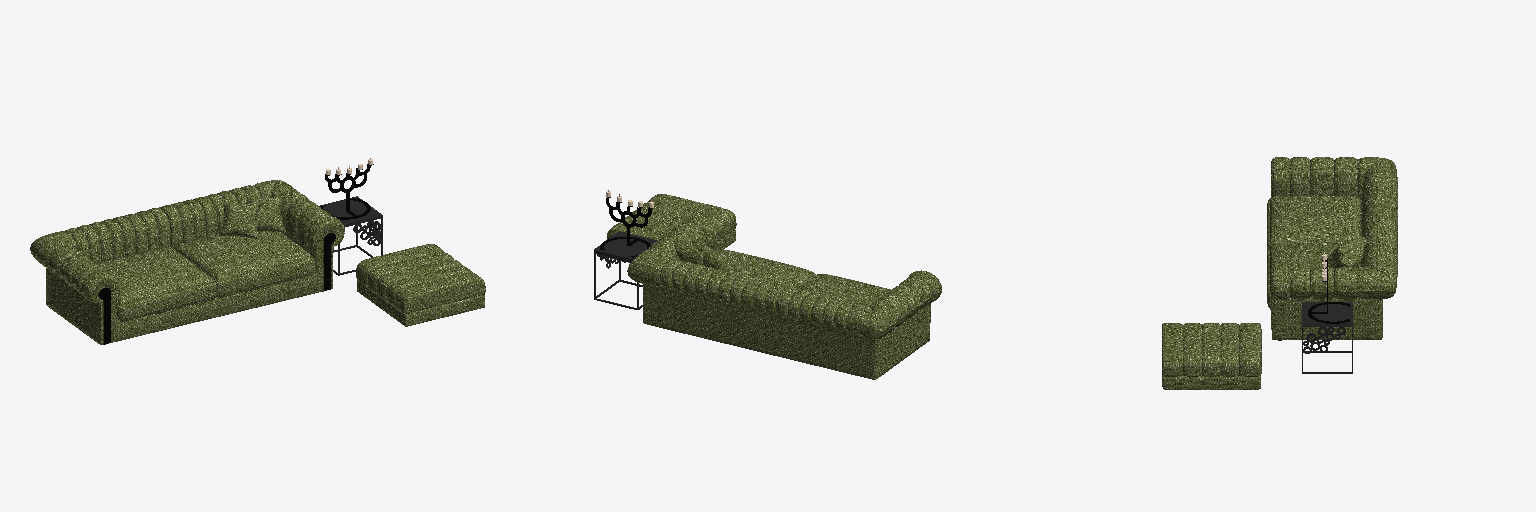
The picture shows the model from 3 angles: view 1: azimuth 30°, elevation 25°; view 2: azimuth 150°, elevation 25°; view 3: azimuth 270°, elevation 25°; orthographic projection.
Parts seen in each view (by area): view 1: Box01, Box02, Rectangle01, Box03, Box04, Box05, Rectangle79, Rectangle07, Rectangle04; view 2: Box01, Box02, Rectangle01, Box03, Box04, Rectangle04; view 3: Box02, Box01, Rectangle01, Box04, Box03, Box05, Rectangle04.
Part boxes in pixels (bbox=[...]): Box01: bbox=[30, 208, 217, 344]; Box02: bbox=[159, 180, 344, 316]; Rectangle01: bbox=[333, 244, 485, 313]; Box03: bbox=[173, 231, 314, 297]; Box04: bbox=[98, 247, 216, 321]; Box05: bbox=[357, 279, 484, 326]; Rectangle79: bbox=[219, 199, 262, 238]; Rectangle07: bbox=[246, 195, 286, 232]; Rectangle04: bbox=[319, 196, 382, 225]; Box01: bbox=[753, 270, 941, 379]; Box02: bbox=[627, 216, 764, 351]; Rectangle01: bbox=[594, 194, 736, 309]; Box03: bbox=[717, 249, 815, 288]; Box04: bbox=[797, 274, 890, 306]; Rectangle04: bbox=[594, 231, 657, 260]; Box02: bbox=[1271, 215, 1397, 339]; Box01: bbox=[1271, 157, 1397, 234]; Rectangle01: bbox=[1162, 323, 1352, 376]; Box04: bbox=[1267, 196, 1361, 251]; Box03: bbox=[1267, 243, 1360, 309]; Box05: bbox=[1162, 375, 1260, 389]; Rectangle04: bbox=[1302, 302, 1352, 324].
Bounding box in the file's own units: 3744 × 1057 × 2236.
4 materials, 1 textured.